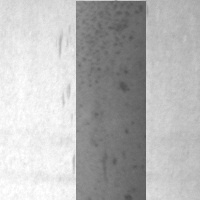inclusion: (83, 148, 131, 200), (84, 24, 122, 87), (57, 77, 80, 111)
pitted_surface: (76, 1, 146, 200)
